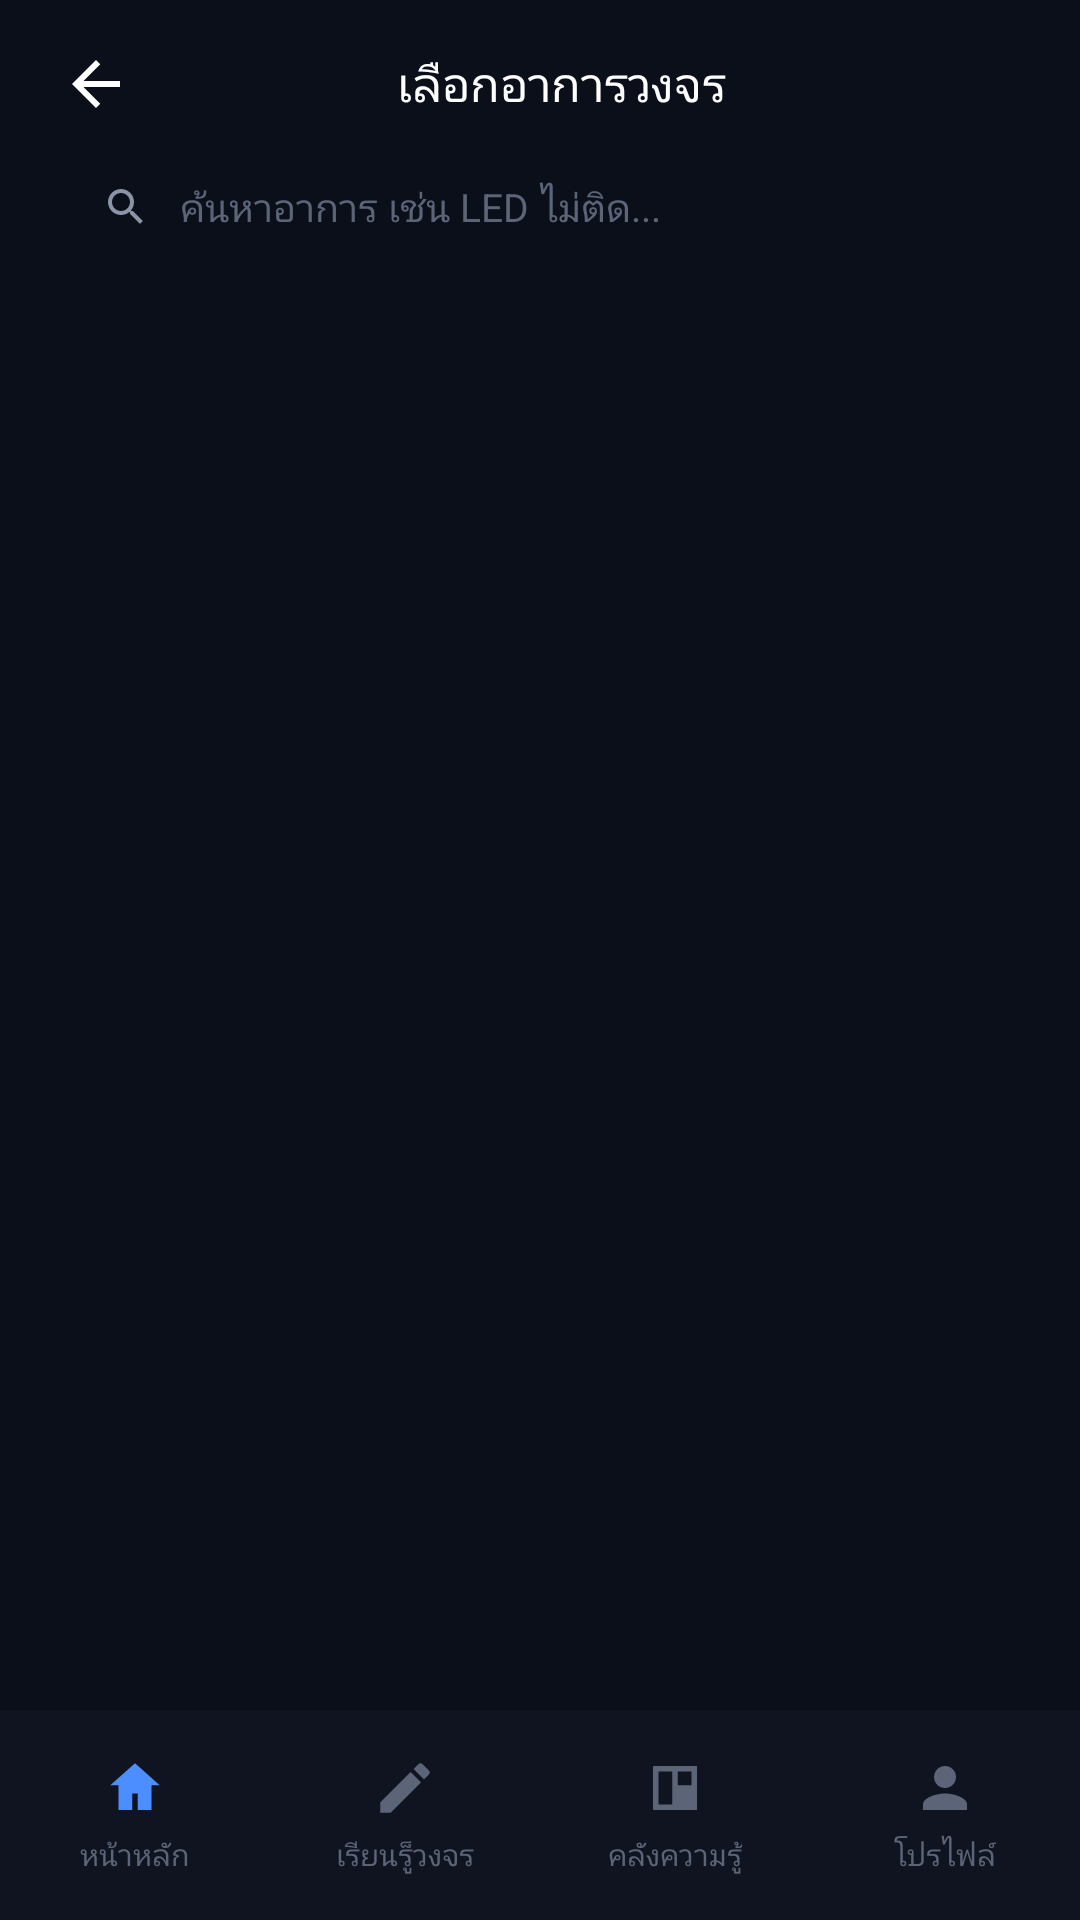

Icons on this 1080*1920 Android screen, each with its box as (x1, y1, x2, y2):
back: (72, 60, 120, 108)
search: (108, 189, 143, 224)
write: (380, 1763, 430, 1813)
